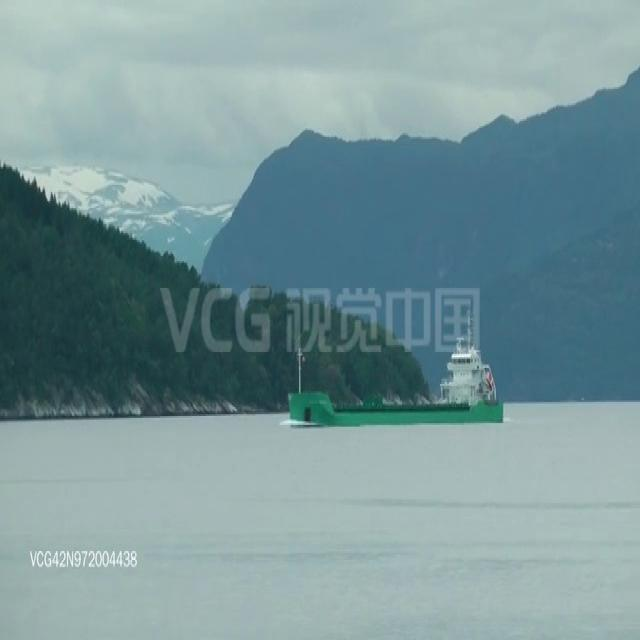cargoship: (285, 340, 506, 430)
